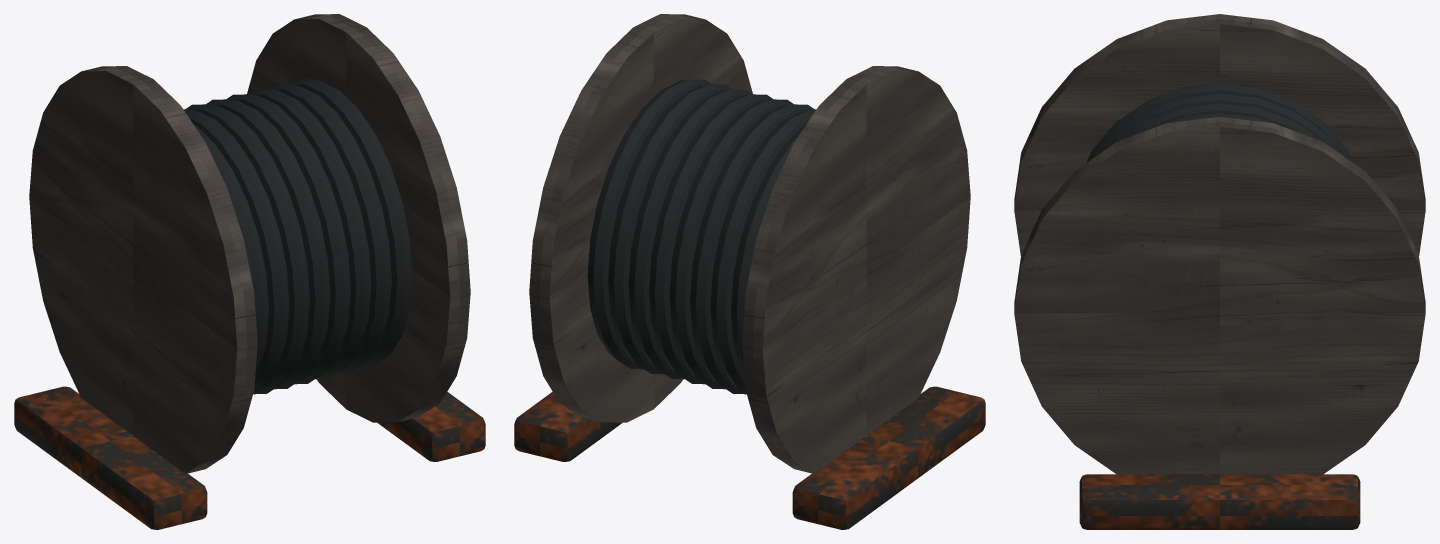
Rendered from SM_PortableCableReel_a7e6ae7d91.fbx.
3 views of the same model, side by side, from view 1: azimuth 30°, elevation 25°; view 2: azimuth 150°, elevation 25°; view 3: azimuth 270°, elevation 25° (orthographic).
Visible parts, largest first — view 1: SM_PortableCableReel_a7e6ae7d91; view 2: SM_PortableCableReel_a7e6ae7d91; view 3: SM_PortableCableReel_a7e6ae7d91.
Boxes of the visible parts, x1,y1,x2,y2 form: SM_PortableCableReel_a7e6ae7d91: (14,14,485,529); SM_PortableCableReel_a7e6ae7d91: (514,14,985,529); SM_PortableCableReel_a7e6ae7d91: (1014,14,1425,529).
Size of what is drawn, in the model's own units: 41 by 44 by 45.
3 materials, 2 textured.
